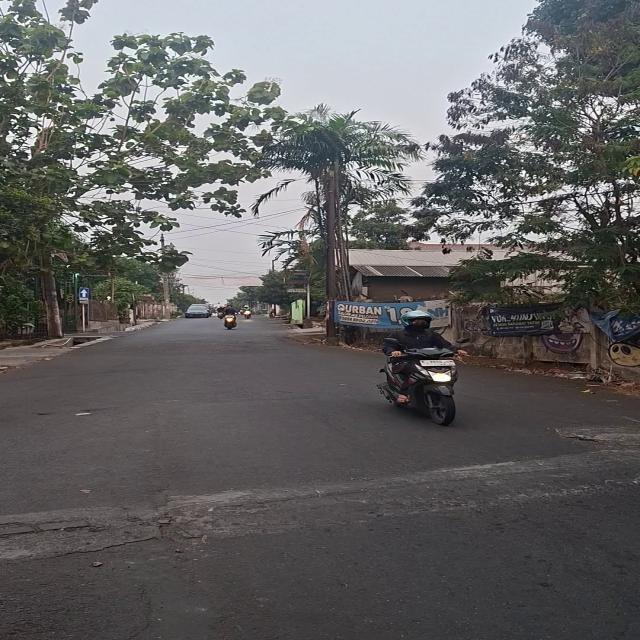WithHelmet: (381, 310, 469, 404), (240, 305, 254, 316)
